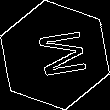M_W: (25, 28, 85, 82)
